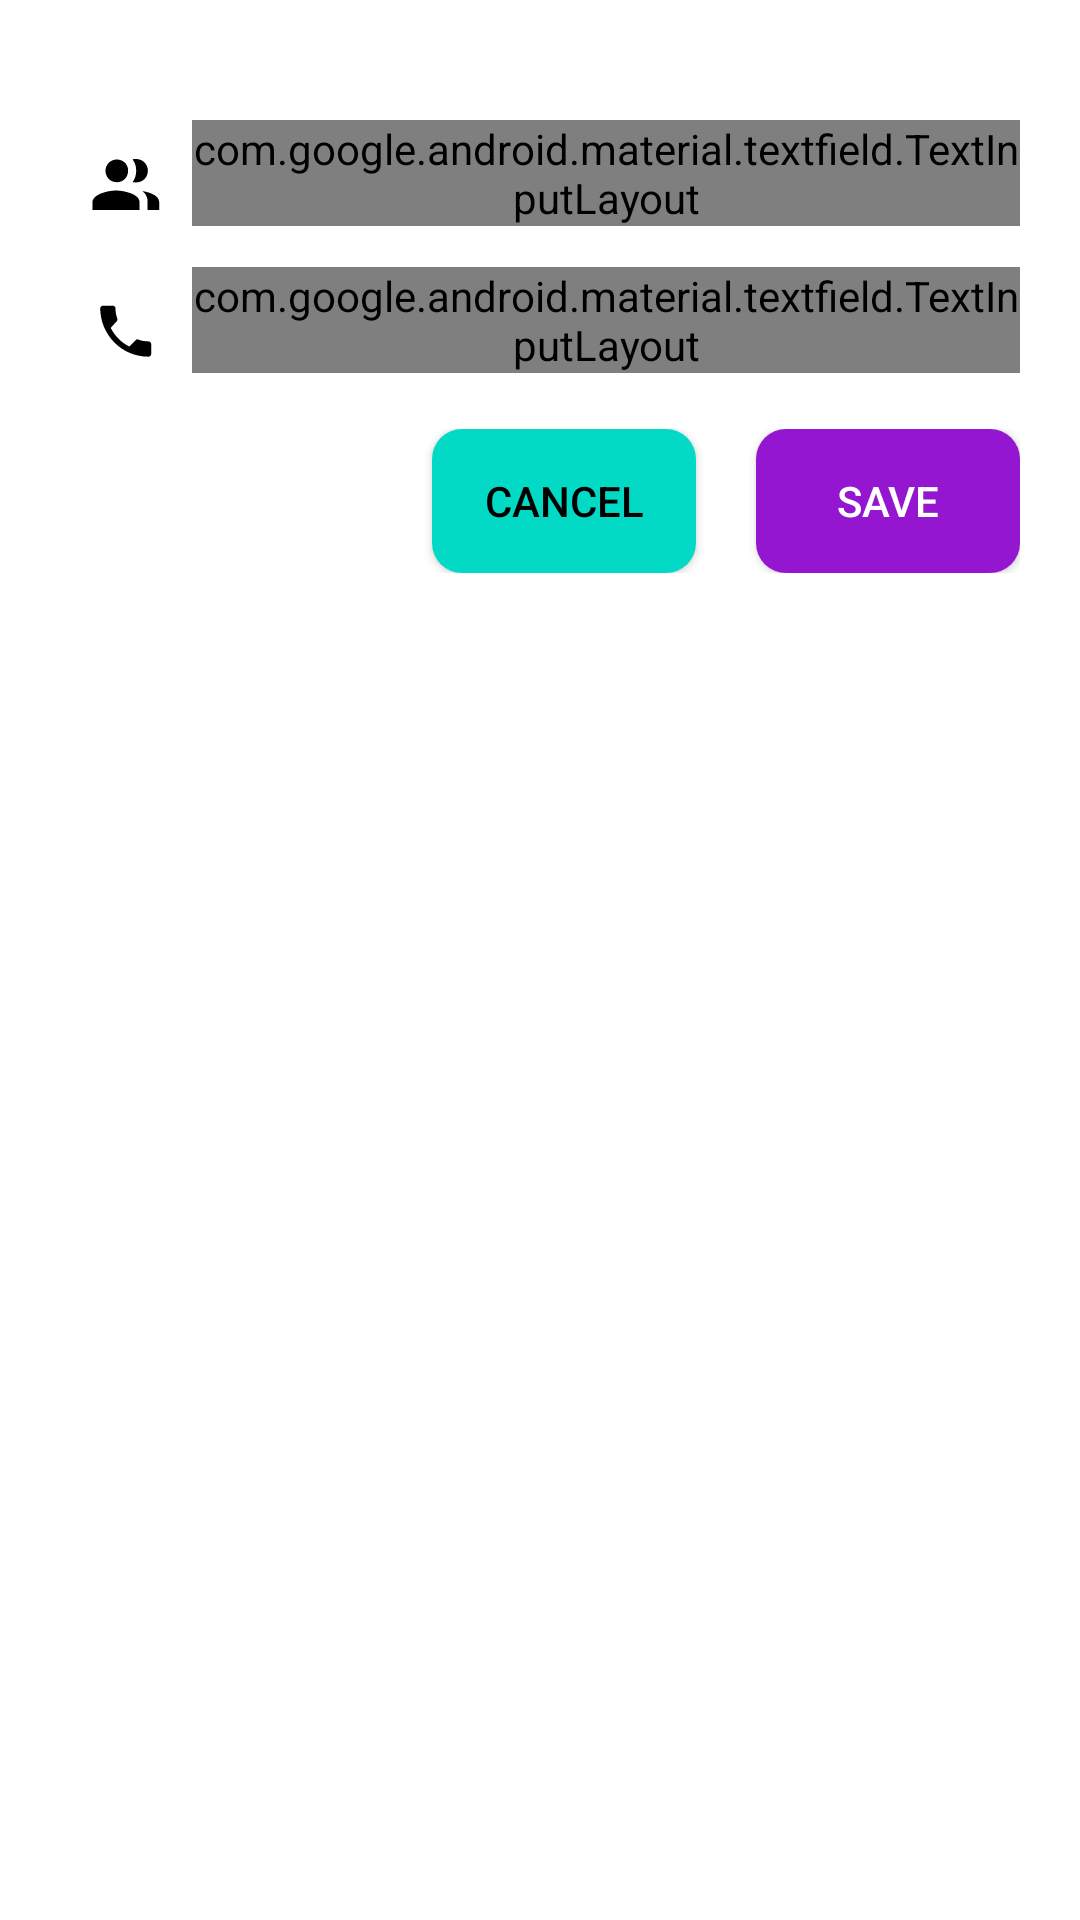

Locate icon controls on the screen. Image size 1080x1920, boxes as bbox(x1, y1, x2, y2).
call: bbox(100, 305, 152, 357)
contacts: bbox(92, 159, 160, 210)
